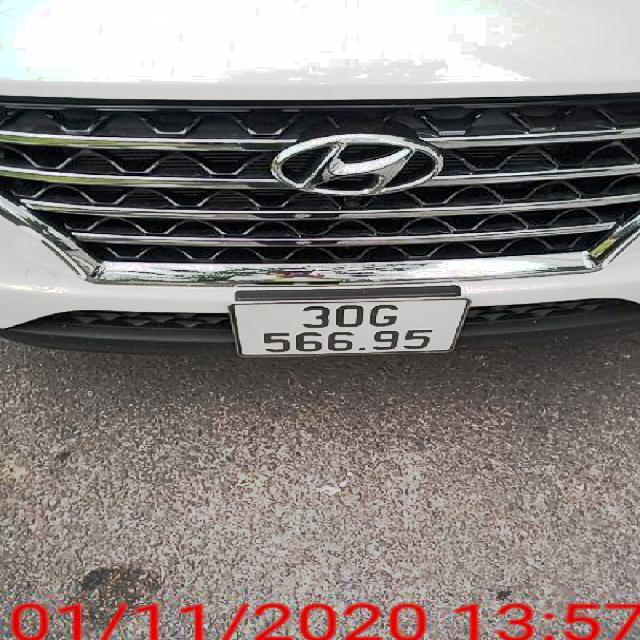license_plate: (236, 298, 469, 357)
